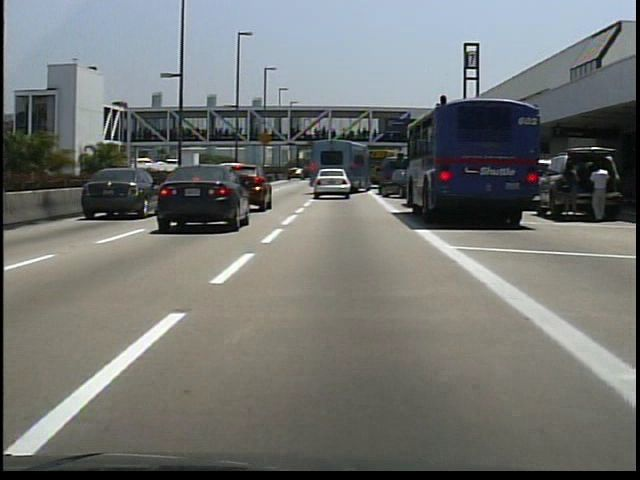person: (553, 157, 581, 224), (585, 160, 612, 226)
